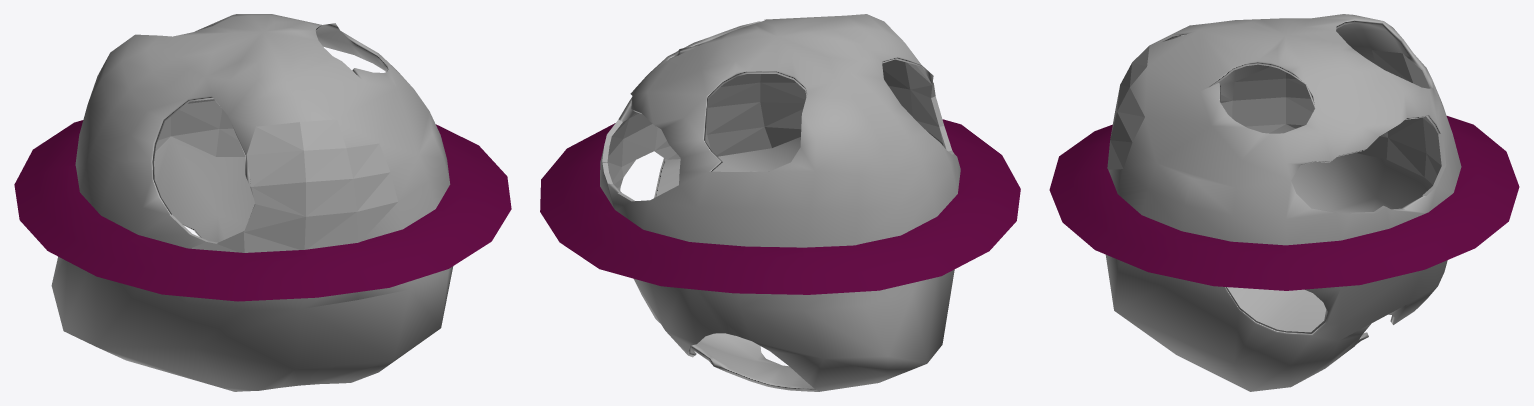
Rendered from pod_02.fbx.
3 views of the same model, side by side, from view 1: azimuth 30°, elevation 25°; view 2: azimuth 150°, elevation 25°; view 3: azimuth 270°, elevation 25° (orthographic). The views are drawn at different scales.
Parts seen in each view (by area): view 1: pod_02; view 2: pod_02; view 3: pod_02.
Boxes of the visible parts, bbox=[...] form: pod_02: bbox=[14, 14, 511, 391]; pod_02: bbox=[540, 14, 1020, 391]; pod_02: bbox=[1049, 14, 1519, 391].
Size of the model in its own units: 22.35 by 17.02 by 22.38.
